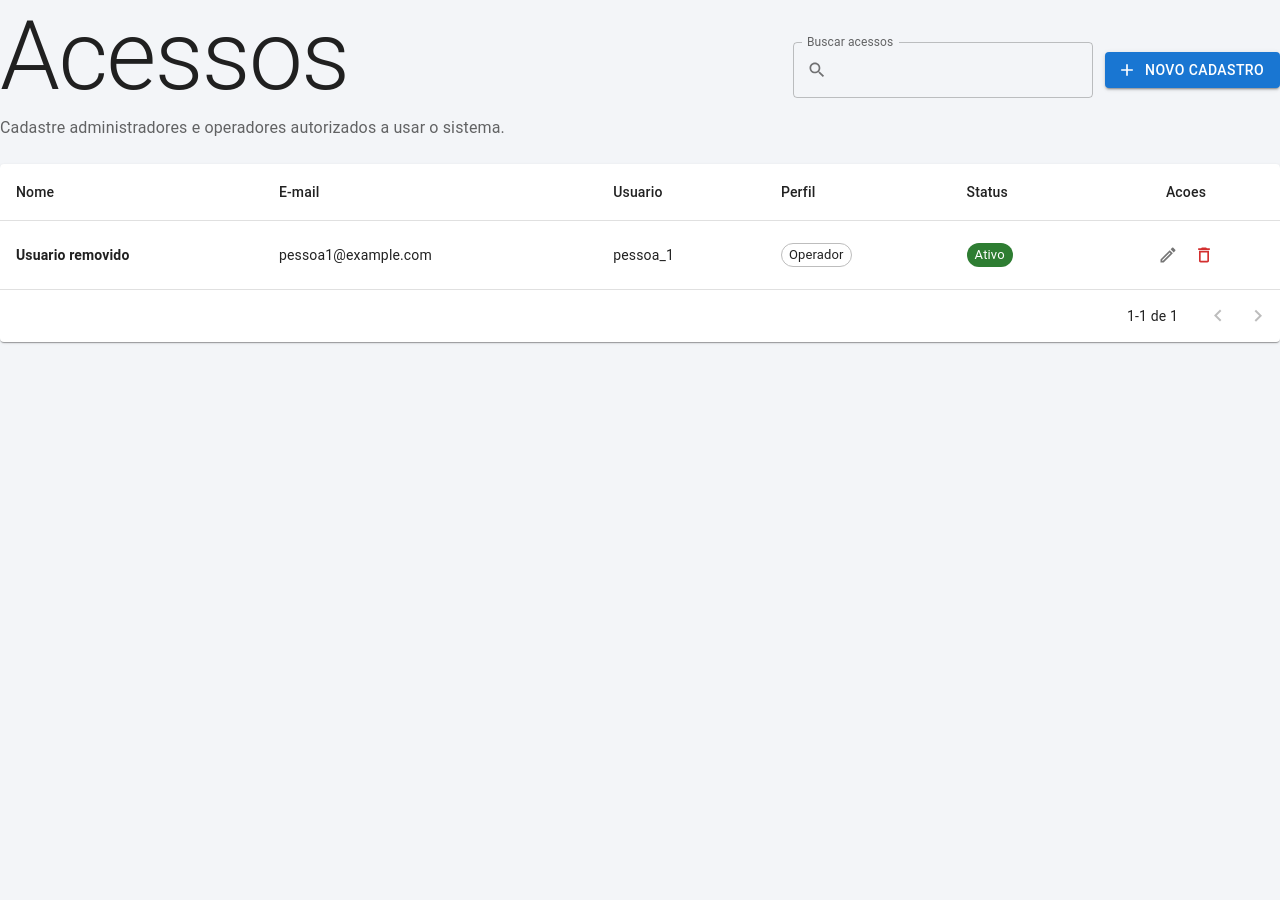
it: AccessPage › exclui um acesso somente depois da confirmacao
Expected: the text "Usuario removido" is shown, [0, 220, 263, 290]
Click the button named "Excluir Usuario removido" at (1204, 255), box [1186, 237, 1222, 273]
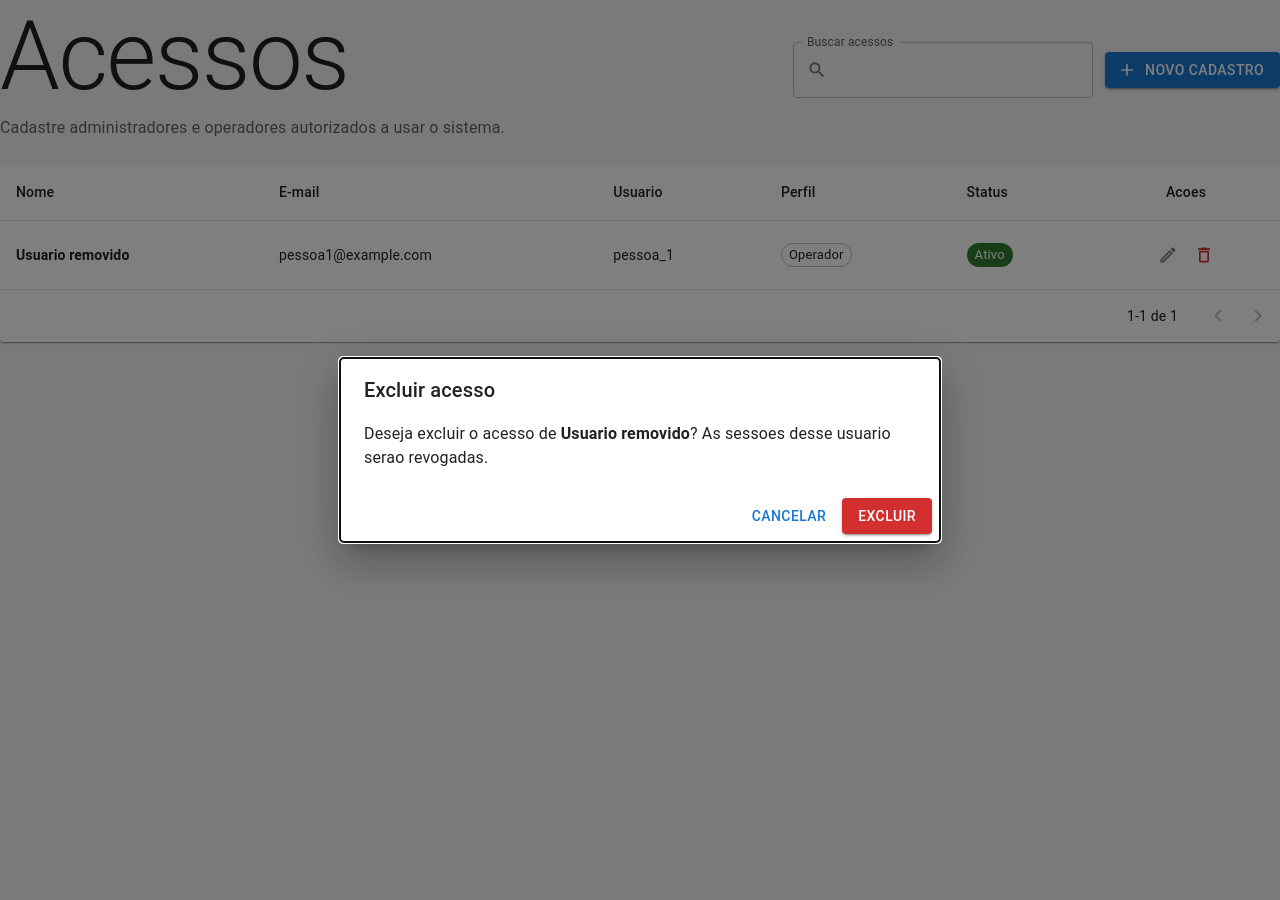
Expected: the dialog "Excluir acesso" shows "Usuario removido", [561, 424, 690, 443]
Click the button "Excluir" at (887, 516), box [842, 498, 932, 534]
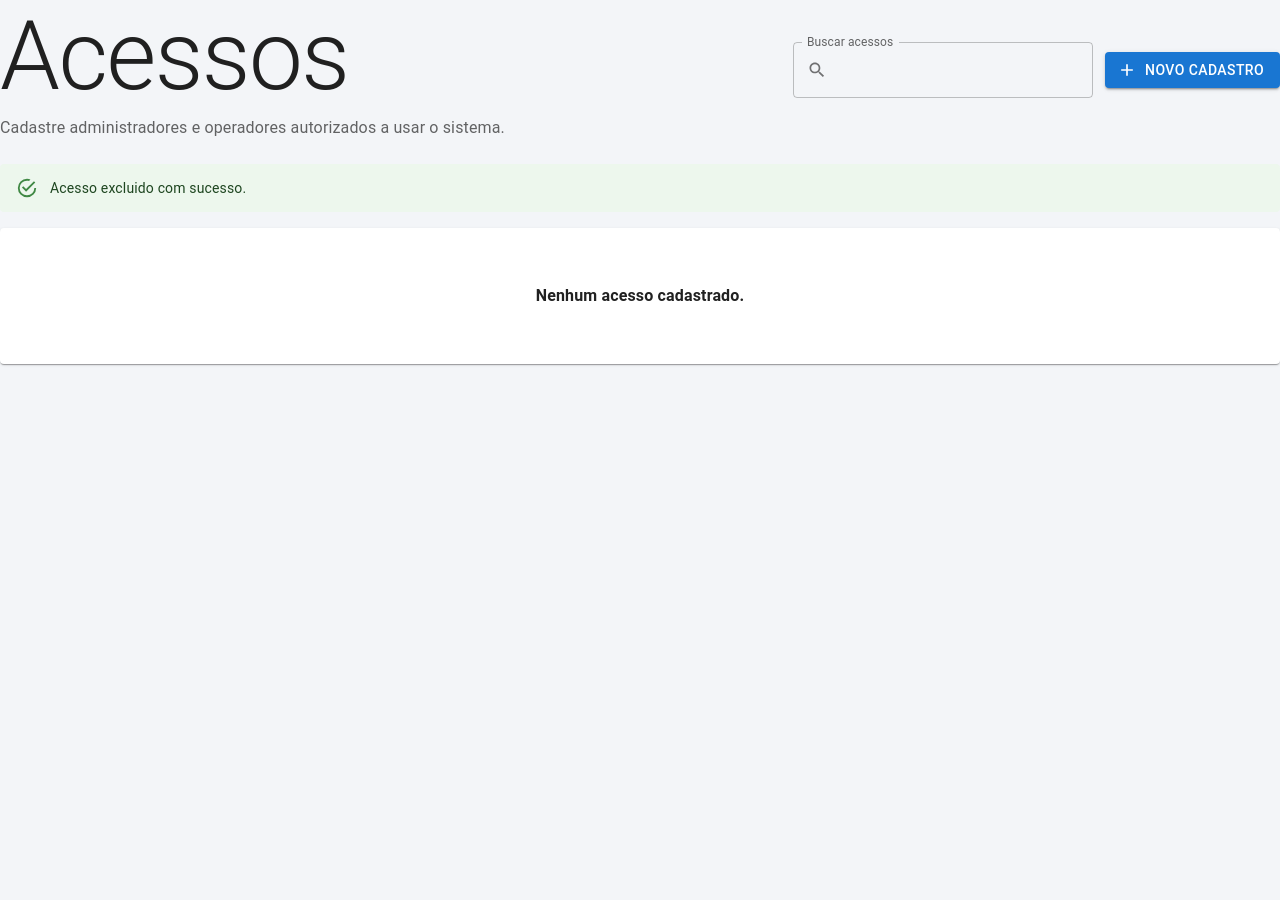
Expected: the text "Nenhum acesso cadastrado." is shown, [536, 286, 744, 305]
